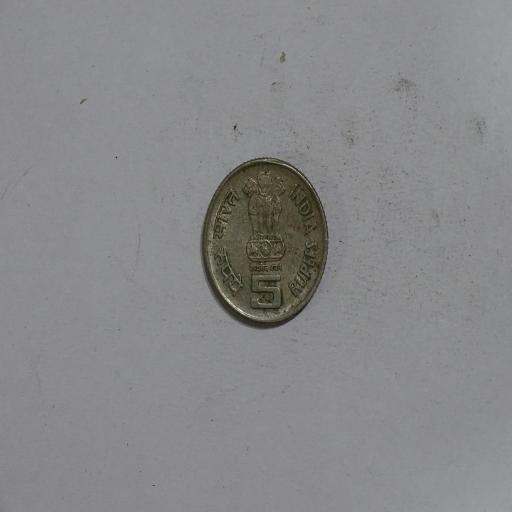rupee5: (200, 157, 329, 326)
